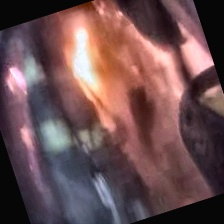fire: (54, 23, 113, 105)
